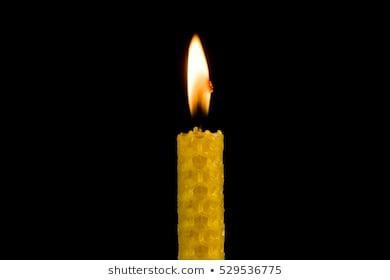fire: (183, 30, 213, 119)
